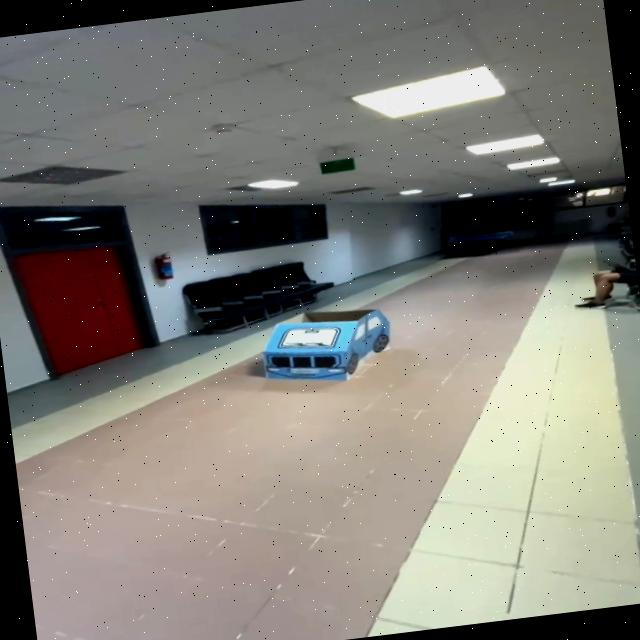blue_car: (233, 289, 412, 402)
